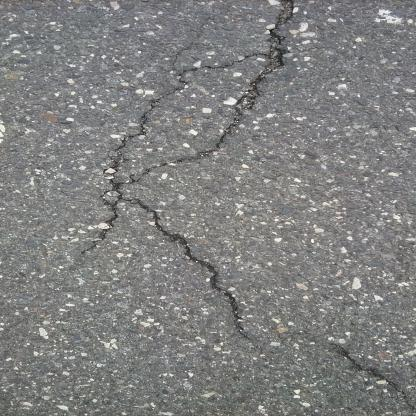Cracks: (74, 0, 303, 353), (315, 337, 414, 415)
